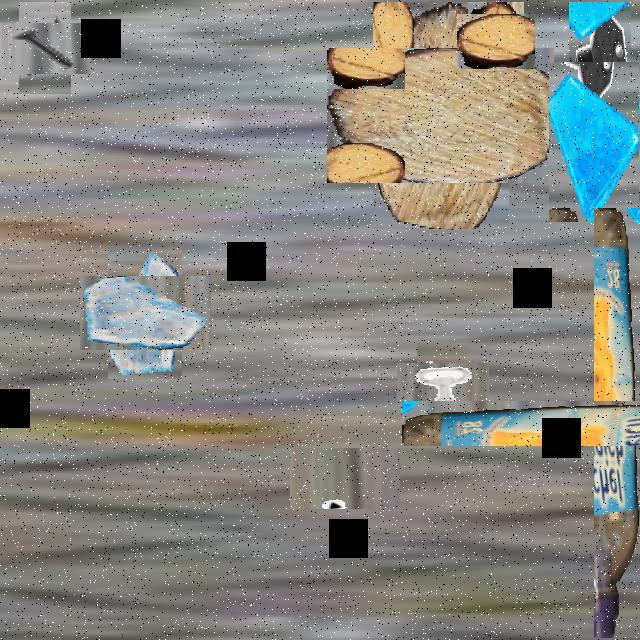glass: (549, 62, 639, 222), (94, 262, 196, 364)
metal: (302, 435, 388, 521), (569, 2, 631, 112), (407, 353, 479, 426), (9, 12, 81, 84)
plastic: (498, 304, 640, 542)
wood: (350, 25, 532, 206), (462, 7, 530, 74)
